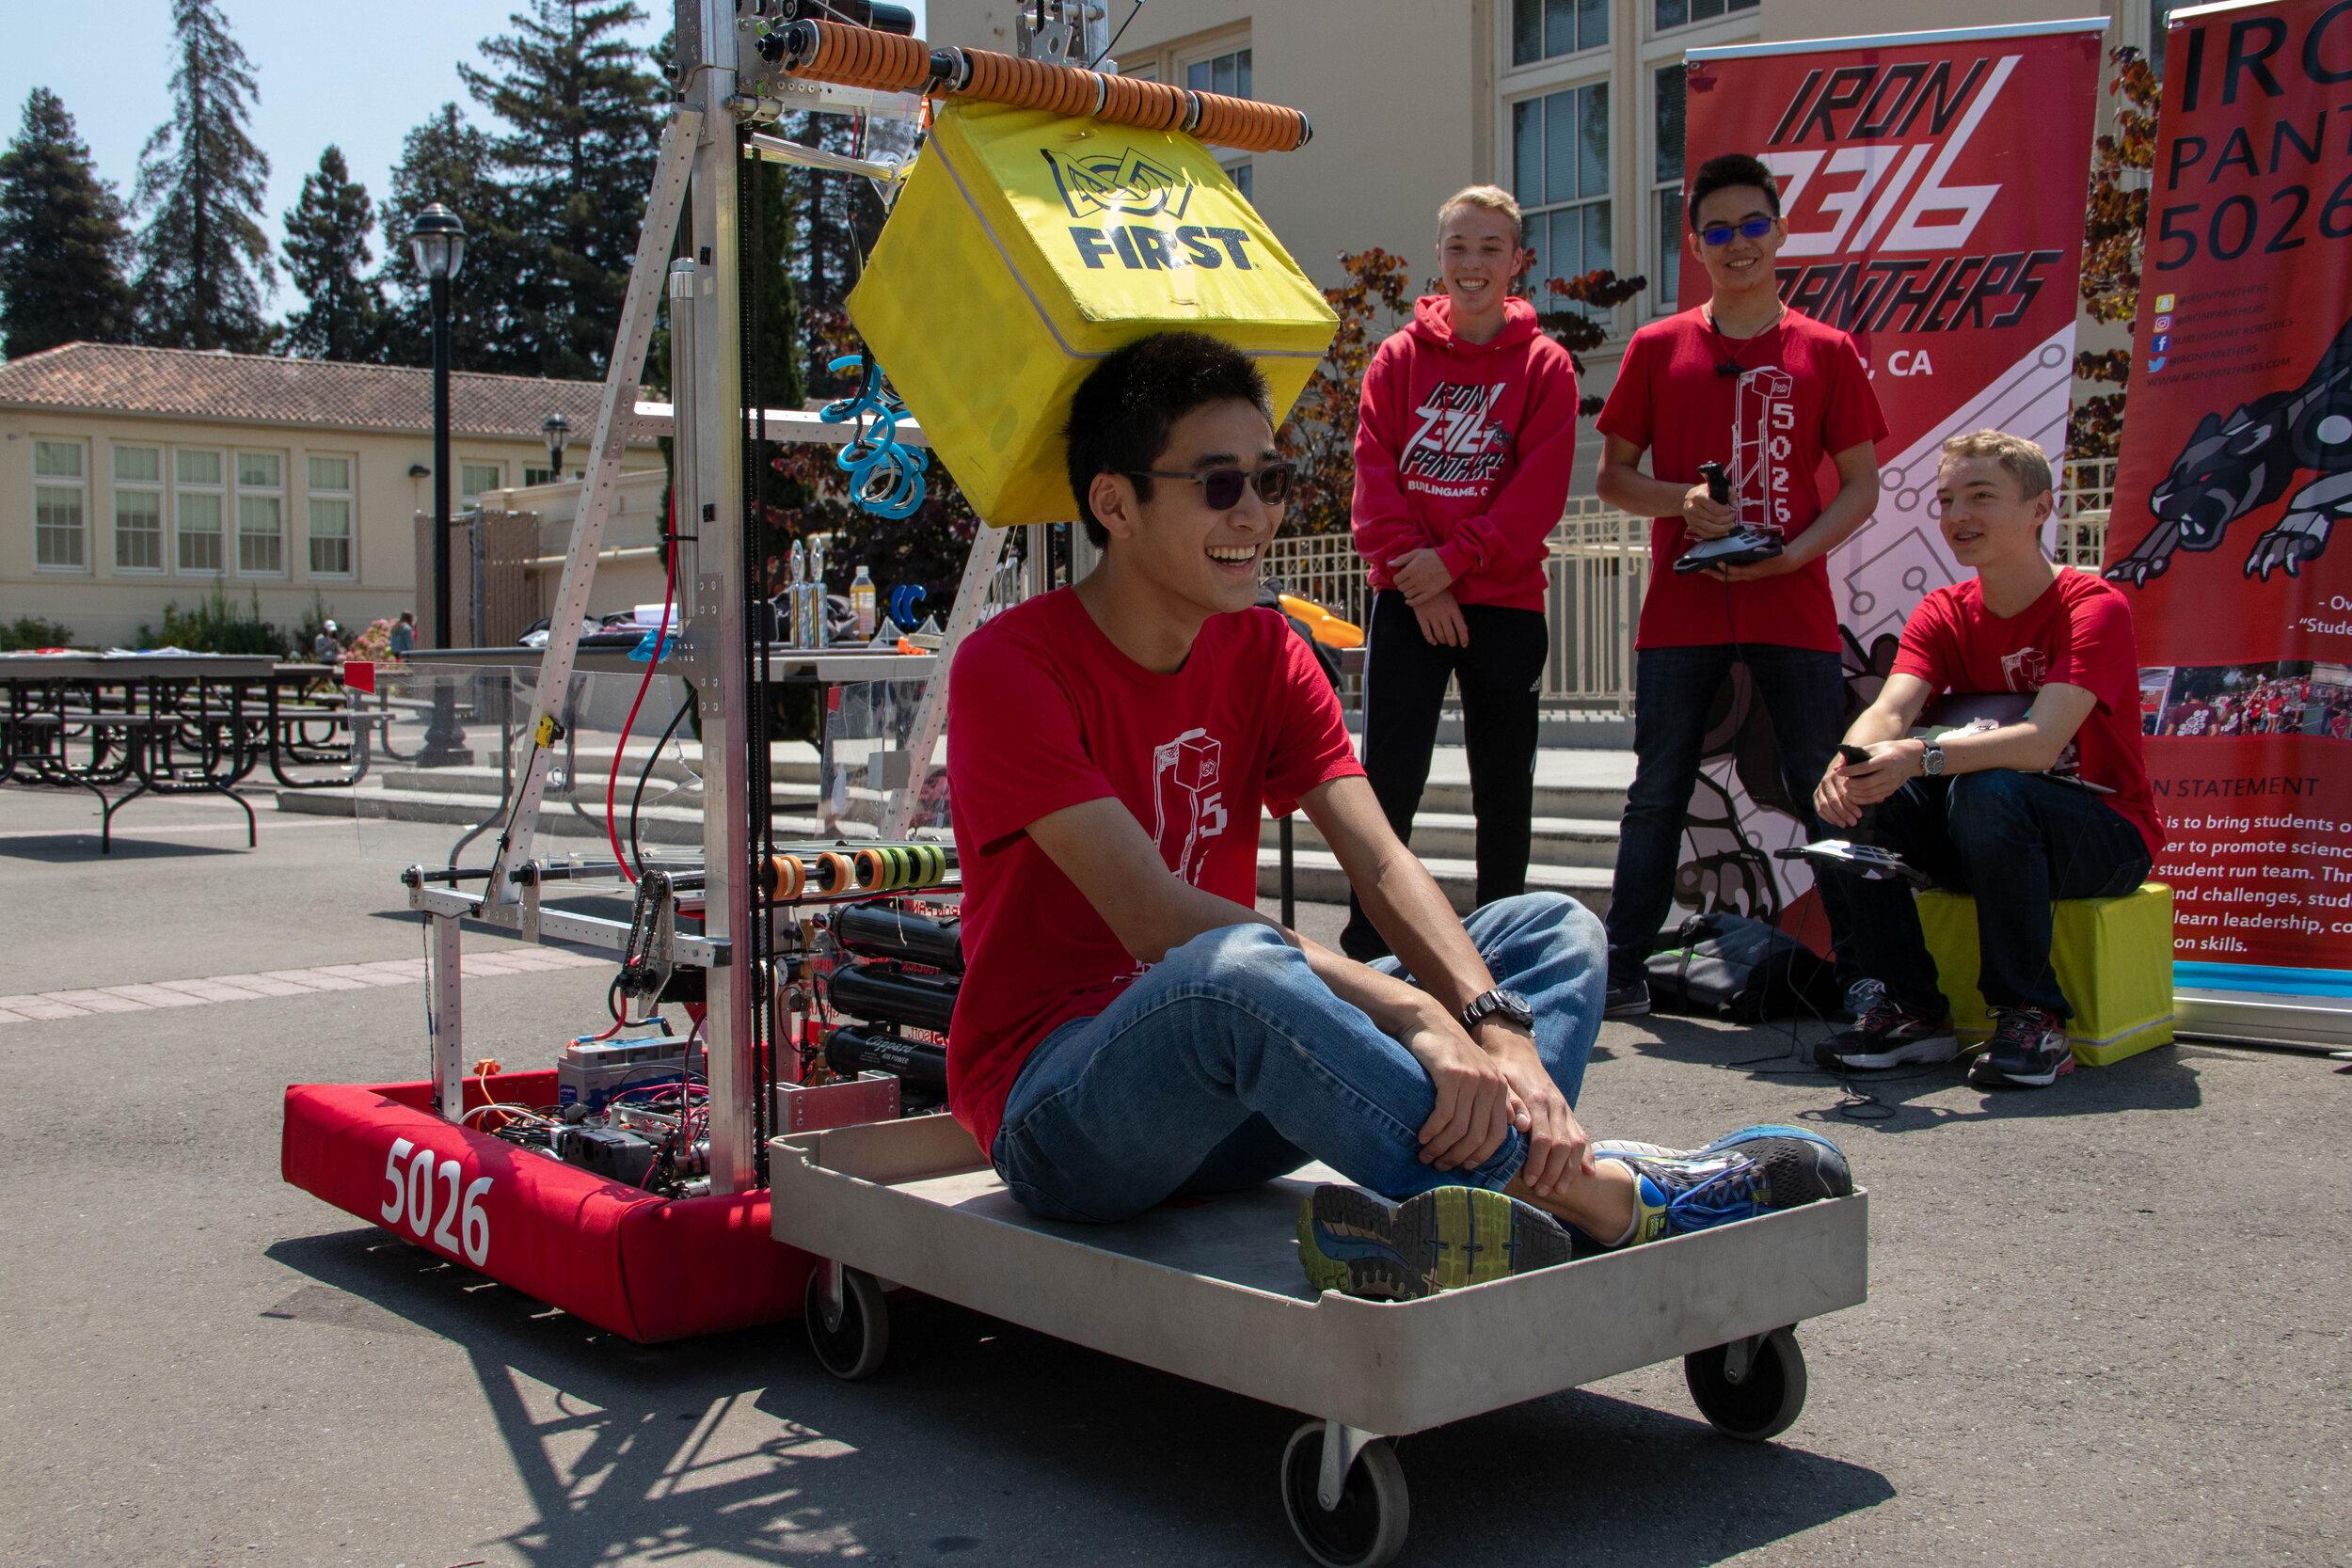robot: (269, 2, 1342, 1346)
